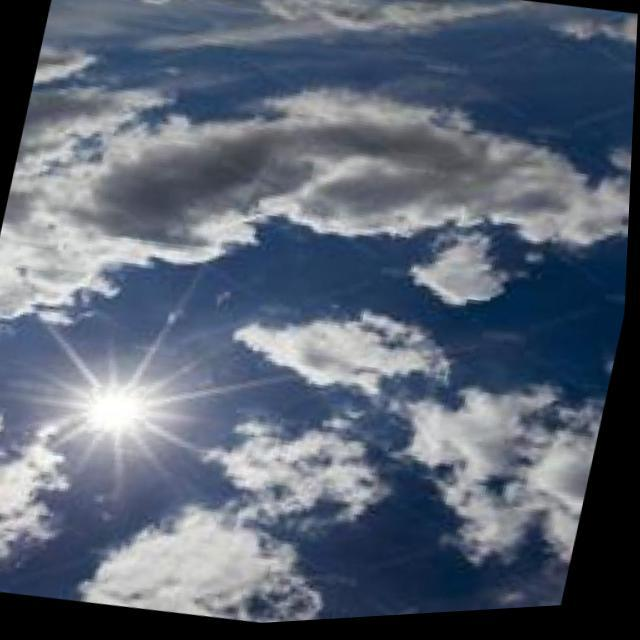sun: (90, 389, 148, 435)
